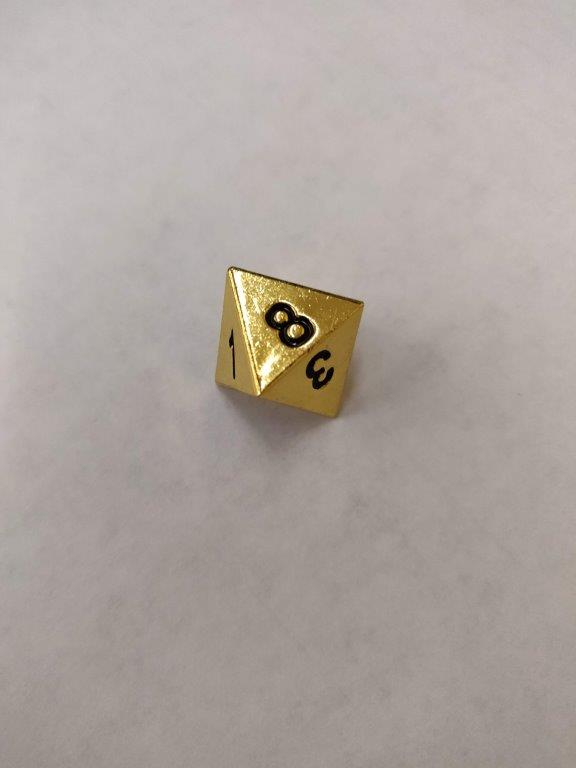d8-8: (210, 265, 370, 422)
